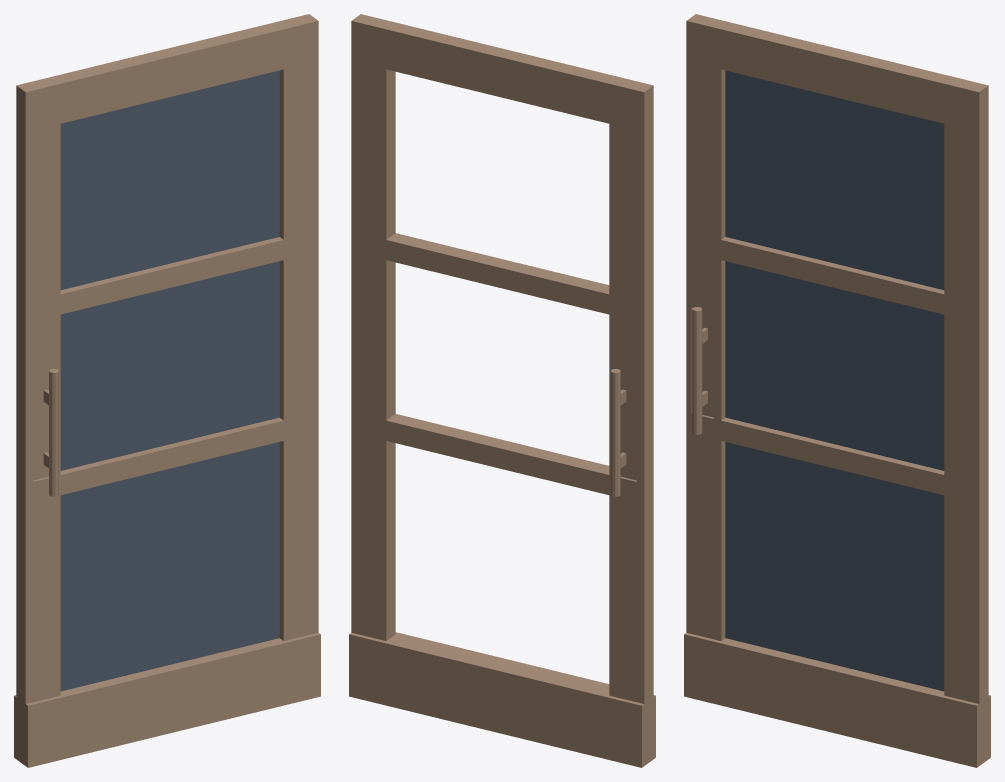
Rendered from env_block_door_3.glb.
The picture shows the model from 3 angles, left to right: view 1: azimuth 30°, elevation 25°; view 2: azimuth 150°, elevation 25°; view 3: azimuth 330°, elevation 25°; orthographic projection.
Parts seen in each view (by area): view 1: part_1, part_0; view 2: part_0; view 3: part_1, part_0.
Part boxes in pixels (x1,y1,x2,y2): part_1: (60, 70, 279, 691); part_0: (14, 14, 320, 767); part_0: (349, 14, 655, 767); part_1: (725, 70, 944, 691); part_0: (684, 14, 990, 767).
Size of the model in its own units: 1 by 2.2 by 0.1883.
